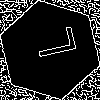L: (25, 25, 77, 62)
